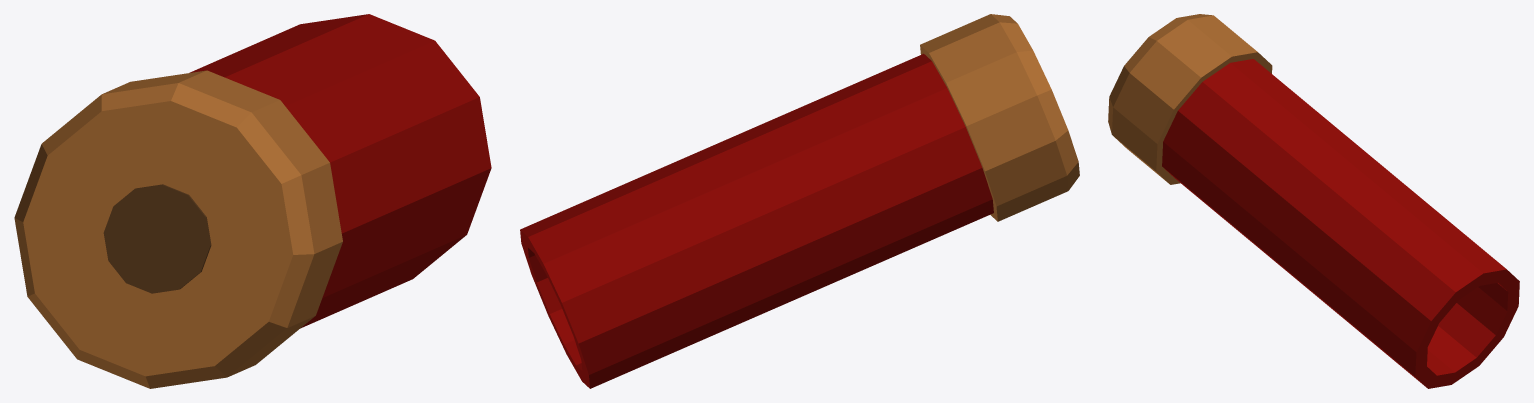
The model's file is shell.glb.
3 views of the same model, side by side, from view 1: azimuth 30°, elevation 25°; view 2: azimuth 150°, elevation 25°; view 3: azimuth 270°, elevation 25° (orthographic). The views are drawn at different scales.
Parts seen in each view (by area): view 1: Object_3, Object_5, Object_2; view 2: Object_5, Object_3; view 3: Object_5, Object_3.
Part boxes in pixels (x1=…): Object_3: x1=14, y1=70, x2=342, y2=388; Object_5: x1=189, y1=14, x2=491, y2=328; Object_2: x1=103, y1=184, x2=211, y2=293; Object_5: x1=520, y1=53, x2=993, y2=388; Object_3: x1=920, y1=14, x2=1079, y2=221; Object_5: x1=1162, y1=59, x2=1519, y2=388; Object_3: x1=1108, y1=14, x2=1272, y2=184.
Size of the model in its own units: 6.23 by 4.38 by 6.33.
